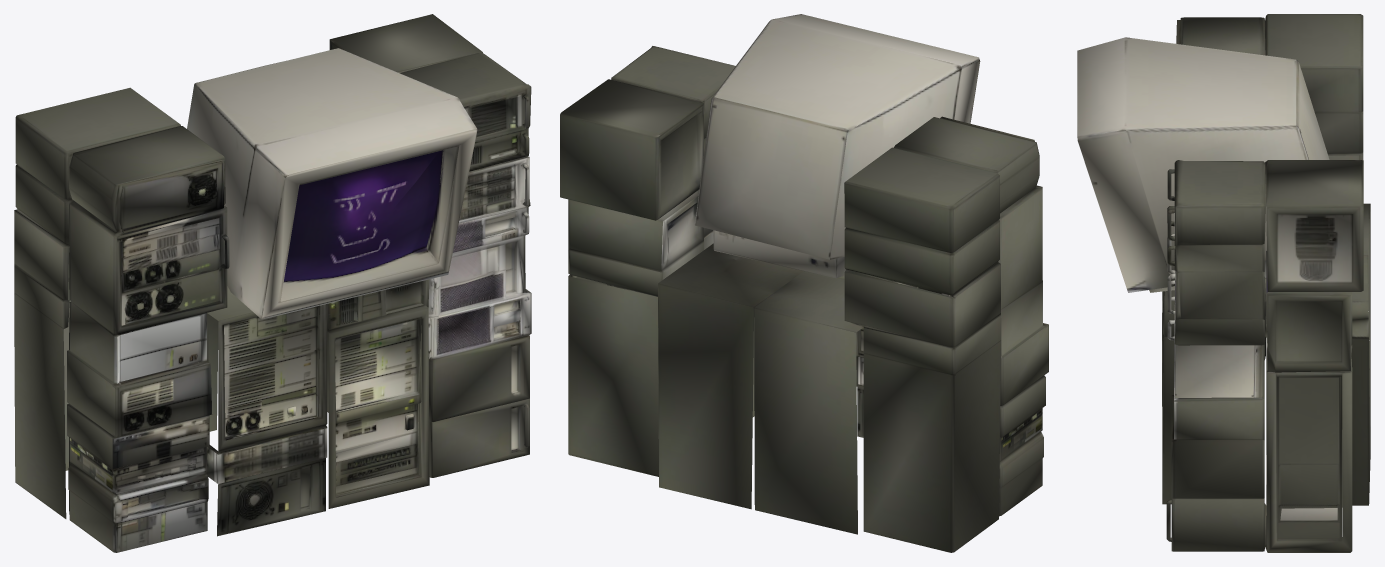
The model's file is mainframe.glb.
3 views of the same model, side by side, from view 1: azimuth 30°, elevation 25°; view 2: azimuth 150°, elevation 25°; view 3: azimuth 270°, elevation 25° (orthographic). The views are drawn at different scales.
Visible parts, largest first — view 1: material; view 2: material; view 3: material.
Boxes of the visible parts, <box> form: material: <box>14,14,531,552</box>; material: <box>560,14,1048,552</box>; material: <box>1077,14,1370,552</box>.
Size of the model in its own units: 4.13 by 3.78 by 2.64.
1 material, 1 textured.
